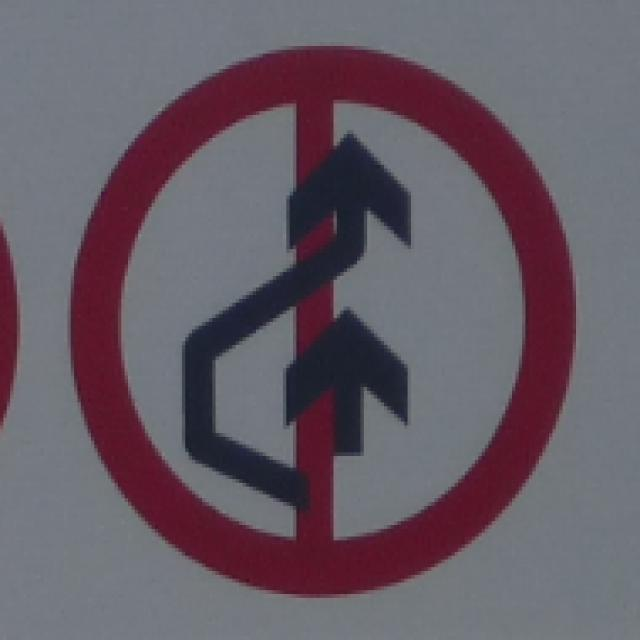Not that Direction: (64, 40, 579, 599)
